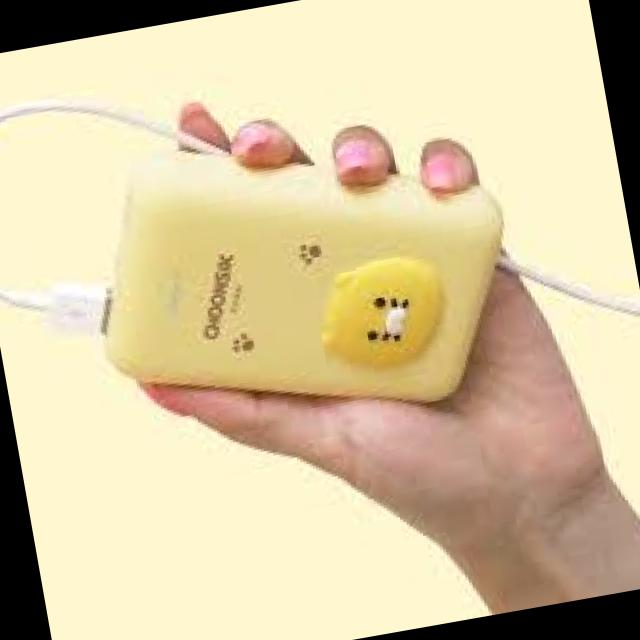power_bank: (71, 94, 532, 462)
